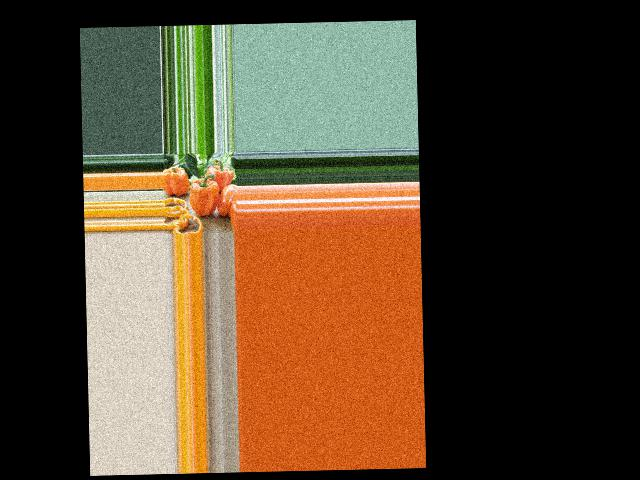bell_pepper: (217, 183, 237, 218)
